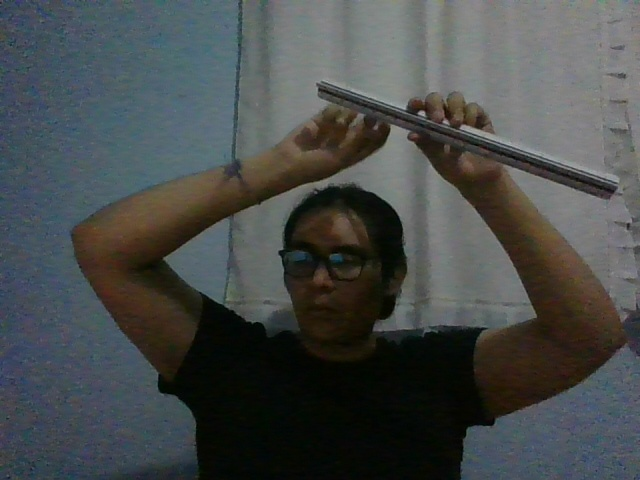regla: (316, 79, 621, 201)
